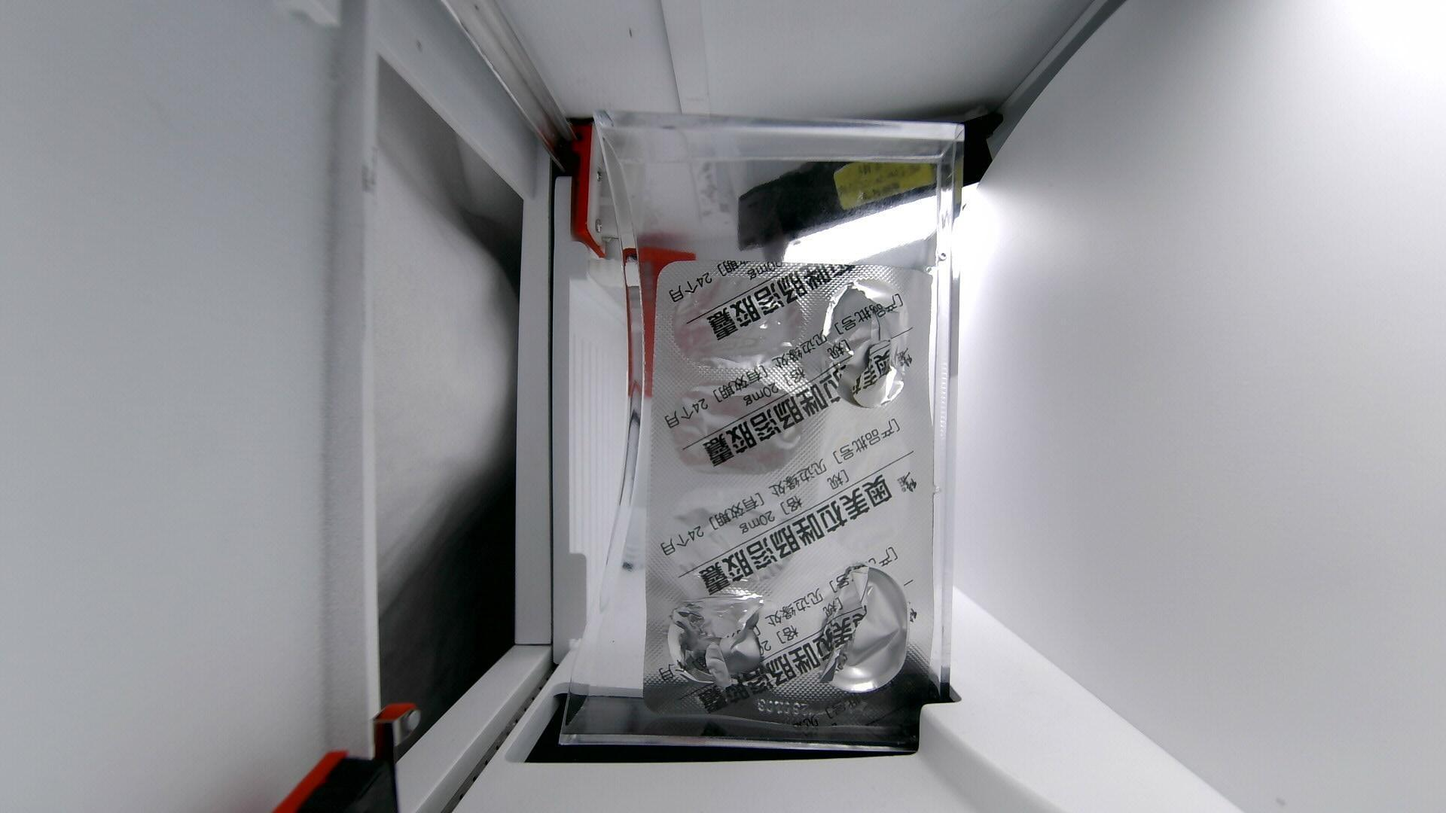No Pill Back: (660, 592, 800, 686), (824, 558, 910, 693), (831, 272, 907, 411)
Pill Back: (662, 490, 807, 582), (668, 381, 809, 475), (675, 281, 816, 369)
